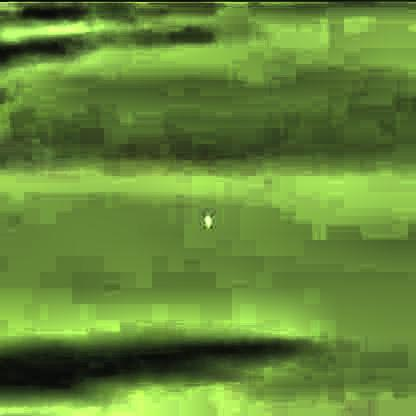golfball: (202, 210, 212, 223)
